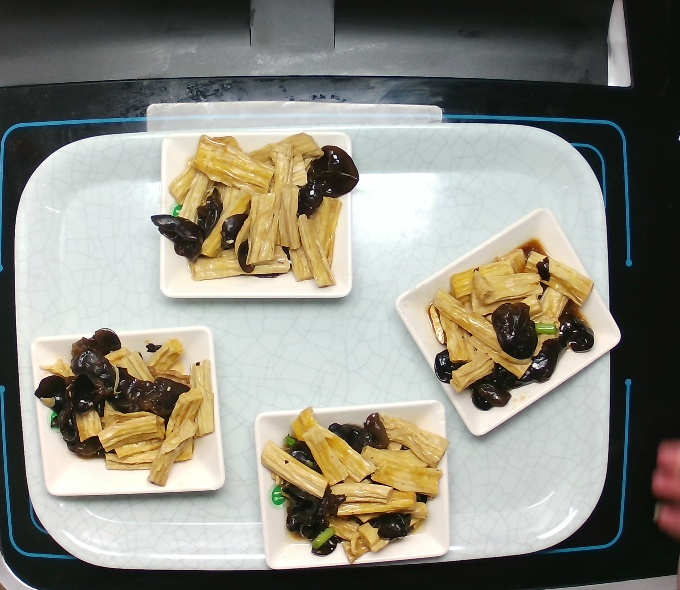wcq-MuErFuZhu: (145, 125, 360, 293), (424, 239, 604, 417), (258, 399, 447, 568), (29, 325, 221, 489)
